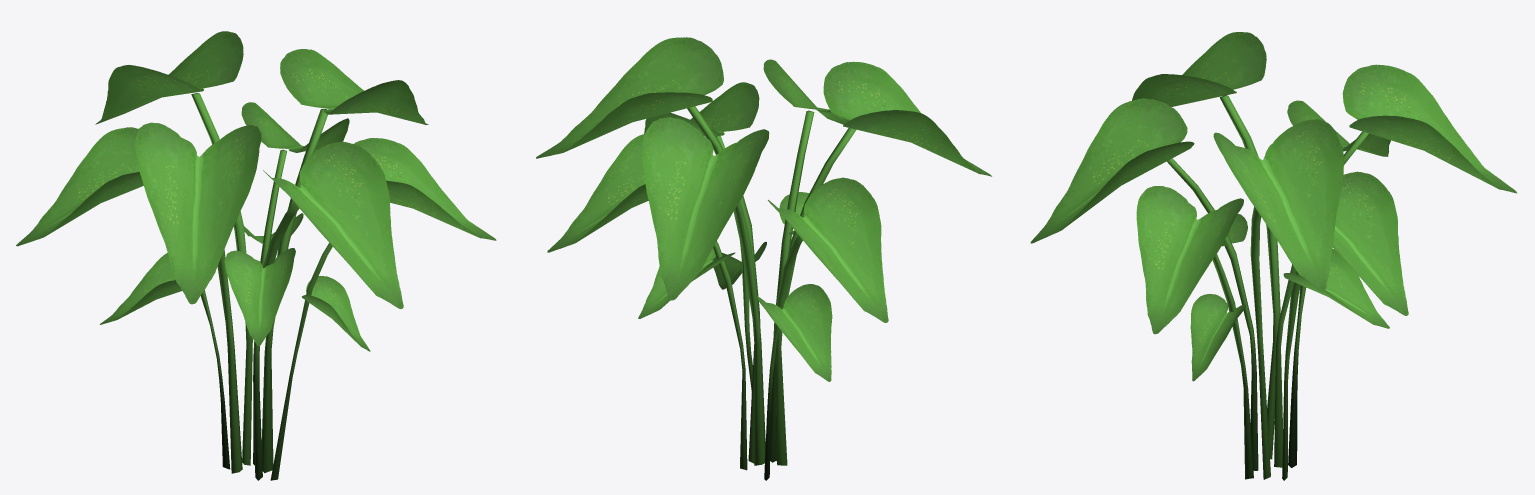
File: Plant_5.gltf
3 views of the same model, side by side, from view 1: azimuth 30°, elevation 25°; view 2: azimuth 150°, elevation 25°; view 3: azimuth 270°, elevation 25° (orthographic).
Visible parts, largest first — view 1: Plant_5; view 2: Plant_5; view 3: Plant_5.
Part boxes in pixels (x1,y1,x2,y2): Plant_5: (16,31,496,480); Plant_5: (536,37,991,480); Plant_5: (1030,32,1516,480).
Size of the model in its own units: 1.41 by 1.39 by 1.52.
Materials: 1 (1 with a texture image).
